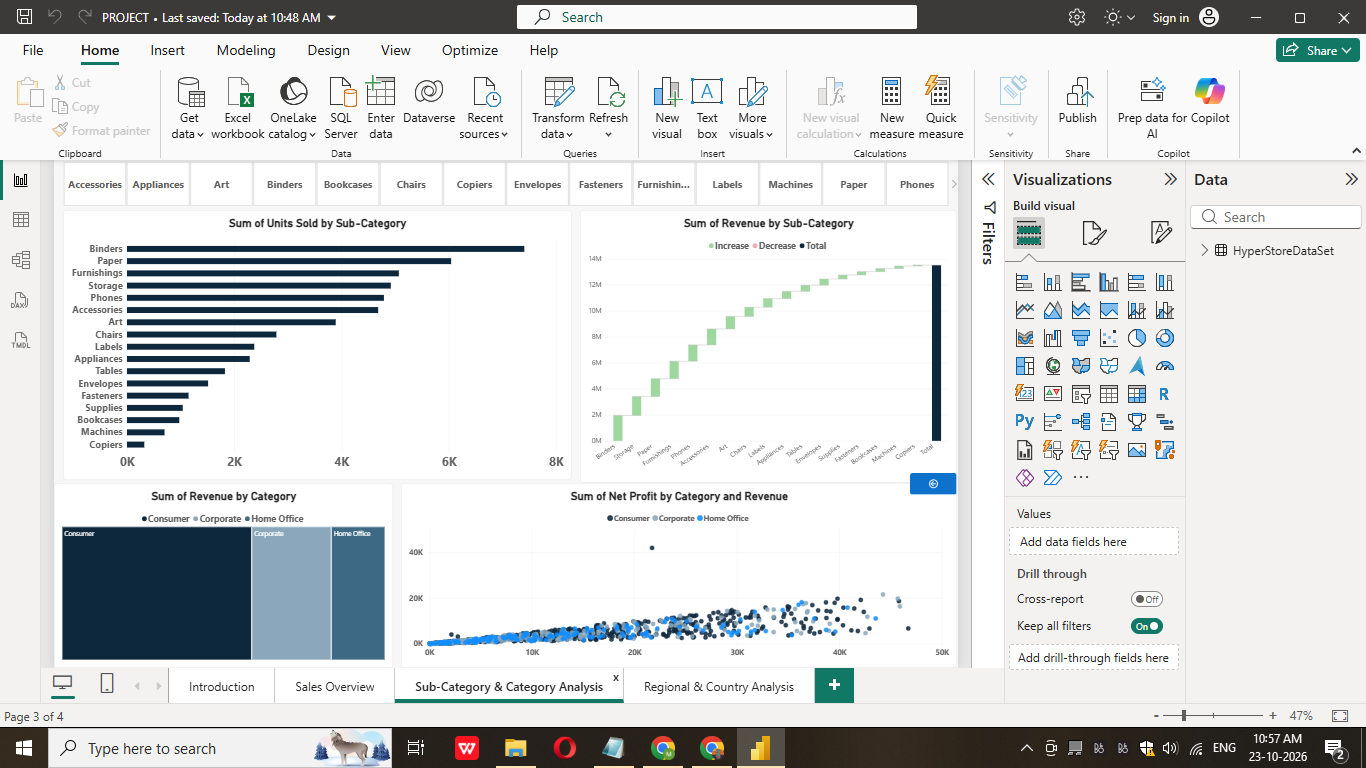

What the dashboard file says about the page in this screenshot:
{"tool":"powerbi","page":{"name":"Sub-Category & Category Analysis","canvas":[1920,1080],"ordinal":2},"visuals":[{"type":"treemap","fields":{"Group":["HyperStoreDataSet.Category"],"Values":["Sum(HyperStoreDataSet.Revenue)"]},"box":[0,686.7,720.7,393.3],"z":3000},{"type":"scatterChart","fields":{"Series":["HyperStoreDataSet.Category"],"X":["HyperStoreDataSet.Revenue"],"Y":["Sum(HyperStoreDataSet.Net Profit)"]},"box":[737.7,686.7,1182,393.3],"z":4000},{"type":"barChart","fields":{"Category":["HyperStoreDataSet.Sub-Category"],"Y":["Sum(HyperStoreDataSet.Units Sold)"]},"box":[19.9,105.9,1081.4,573.8],"z":5000},{"type":"waterfallChart","fields":{"Category":["HyperStoreDataSet.Sub-Category"],"Y":["Sum(HyperStoreDataSet.Revenue)"]},"box":[1118.9,105.9,801.1,580.4],"z":6000},{"type":"slicer","fields":{"Values":["HyperStoreDataSet.Sub-Category"]},"box":[0,2.2,1920,97.1],"z":7000},{"type":"actionButton","box":[1820.7,666.5,99.3,46.3],"z":8000}]}

Visuals, with their boxes on the page's 1920x1080 design canvas (x1, y1, x2, y2). These are canvas units, not pixel positions in the 1366x768 screenshot, which may show the page scaled, cropped or inside an application window:
treemap - HyperStoreDataSet.Category x Sum(HyperStoreDataSet.Revenue): 0/687/721/1080
scatterChart - HyperStoreDataSet.Category x HyperStoreDataSet.Revenue: 738/687/1920/1080
barChart - HyperStoreDataSet.Sub-Category x Sum(HyperStoreDataSet.Units Sold): 20/106/1101/680
waterfallChart - HyperStoreDataSet.Sub-Category x Sum(HyperStoreDataSet.Revenue): 1119/106/1920/686
slicer - HyperStoreDataSet.Sub-Category: 0/2/1920/99
actionButton: 1821/666/1920/713
